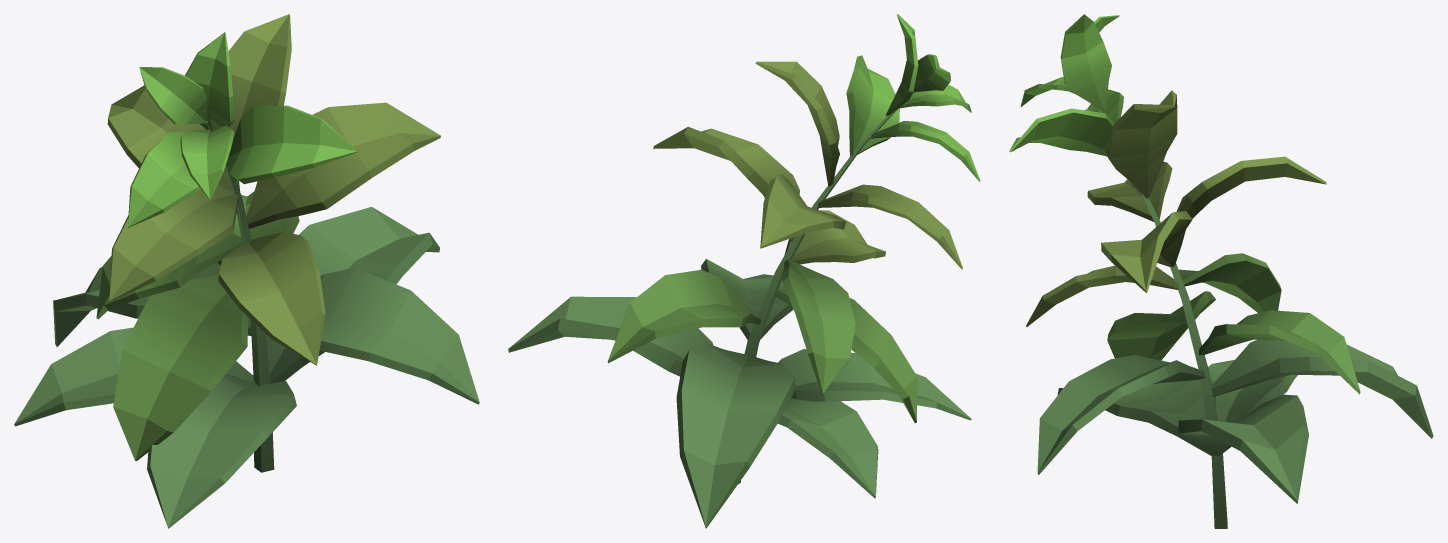
File: ShrubTall-02.FBX
3 renders of one model, left to right at view 1: azimuth 30°, elevation 25°; view 2: azimuth 150°, elevation 25°; view 3: azimuth 270°, elevation 25°, orthographic. The views are drawn at different scales.
Parts seen in each view (by area): view 1: ShrubTall-02; view 2: ShrubTall-02; view 3: ShrubTall-02.
Part boxes in pixels (left/top/right/bottom): ShrubTall-02: left=14, top=14, right=479, bottom=528; ShrubTall-02: left=508, top=14, right=980, bottom=528; ShrubTall-02: left=1009, top=14, right=1433, bottom=528.
Size of the model in its own units: 102 by 118 by 98.26.
Materials: 1 (1 with a texture image).
